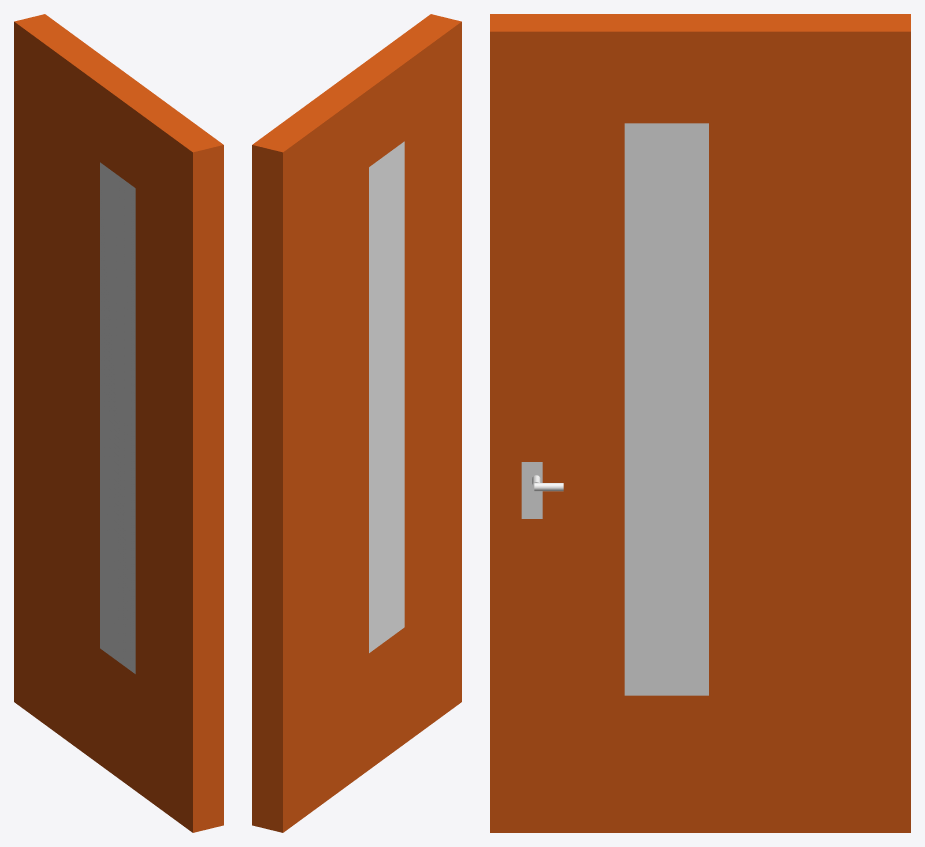
The model's file is deur.glb.
3 views of the same model, side by side, from view 1: azimuth 30°, elevation 25°; view 2: azimuth 150°, elevation 25°; view 3: azimuth 270°, elevation 25° (orthographic). The views are drawn at different scales.
Parts seen in each view (by area): view 1: Cube; view 2: Cube; view 3: Cube.
Boxes of the visible parts, x1,y1,x2,y2 form: Cube: (14,14,223,832); Cube: (252,14,461,832); Cube: (490,14,910,832).
Size of the model in its own units: 0.16 by 2.1 by 1.
